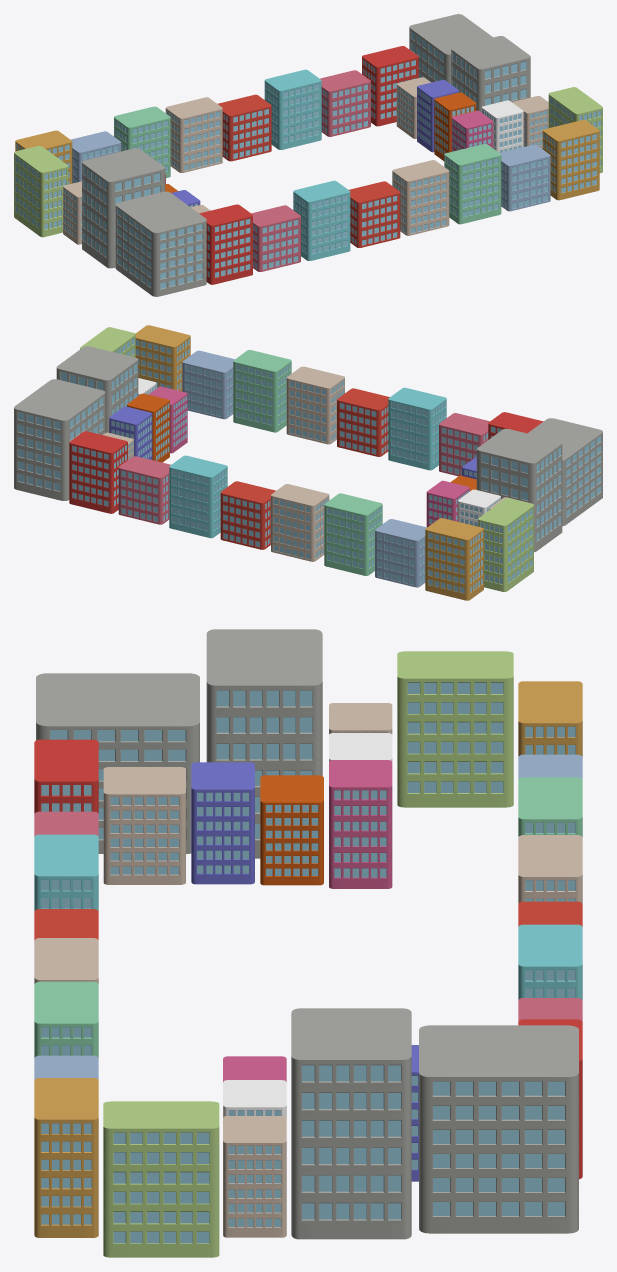
Rendered from GEDUNG_SAMPING.fbx.
3 views of the same model, one above another, from view 1: azimuth 30°, elevation 25°; view 2: azimuth 150°, elevation 25°; view 3: azimuth 270°, elevation 25° (orthographic). The views are drawn at different scales.
Visible parts, largest first — view 1: GEDUNG_SAMPING; view 2: GEDUNG_SAMPING; view 3: GEDUNG_SAMPING.
Boxes of the visible parts, left/top/right/bottom form: GEDUNG_SAMPING: left=14, top=14, right=602, bottom=296; GEDUNG_SAMPING: left=14, top=325, right=602, bottom=600; GEDUNG_SAMPING: left=34, top=629, right=582, bottom=1257.
Size of the model in its own units: 30711 by 5387 by 14907.
